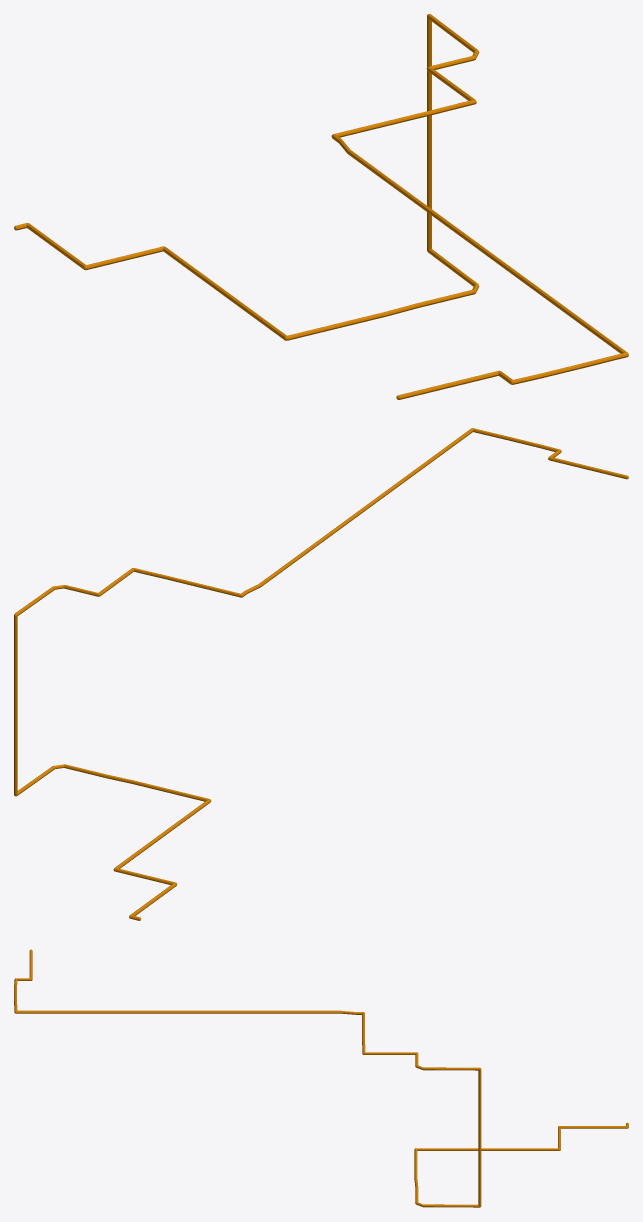
3 views of the same model, one above another, from view 1: azimuth 30°, elevation 25°; view 2: azimuth 150°, elevation 25°; view 3: azimuth 270°, elevation 25° (orthographic). The views are drawn at different scales.
Bounding box in the file's own units: 1870 × 1020 × 4068.
